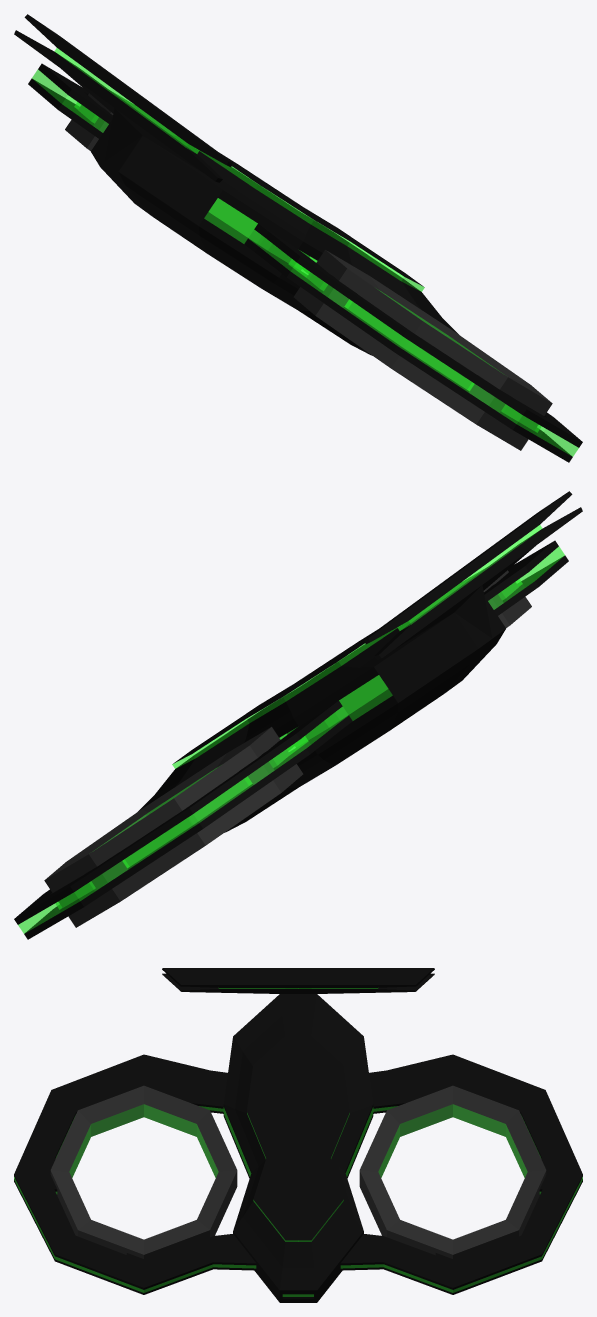
3 renders of one model, top to bottom at view 1: azimuth 30°, elevation 25°; view 2: azimuth 150°, elevation 25°; view 3: azimuth 270°, elevation 25°, orthographic. The views are drawn at different scales.
Visible parts, largest first — view 1: Object_5, Object_3, Object_6; view 2: Object_5, Object_3, Object_6; view 3: Object_5, Object_3, Object_4, Object_6.
Boxes of the visible parts, x1=… form: Object_5: x1=14, y1=14, x2=582, y2=462; Object_3: x1=65, y1=91, x2=552, y2=450; Object_6: x1=32, y1=48, x2=578, y2=456; Object_5: x1=14, y1=491, x2=582, y2=939; Object_3: x1=44, y1=568, x2=531, y2=927; Object_6: x1=18, y1=525, x2=564, y2=933; Object_5: x1=14, y1=968, x2=582, y2=1302; Object_3: x1=50, y1=1085, x2=546, y2=1258; Object_4: x1=69, y1=1104, x2=527, y2=1177; Object_6: x1=14, y1=988, x2=582, y2=1292.
Bounding box in the file's own units: 0.8555 × 0.829 × 1.81.
